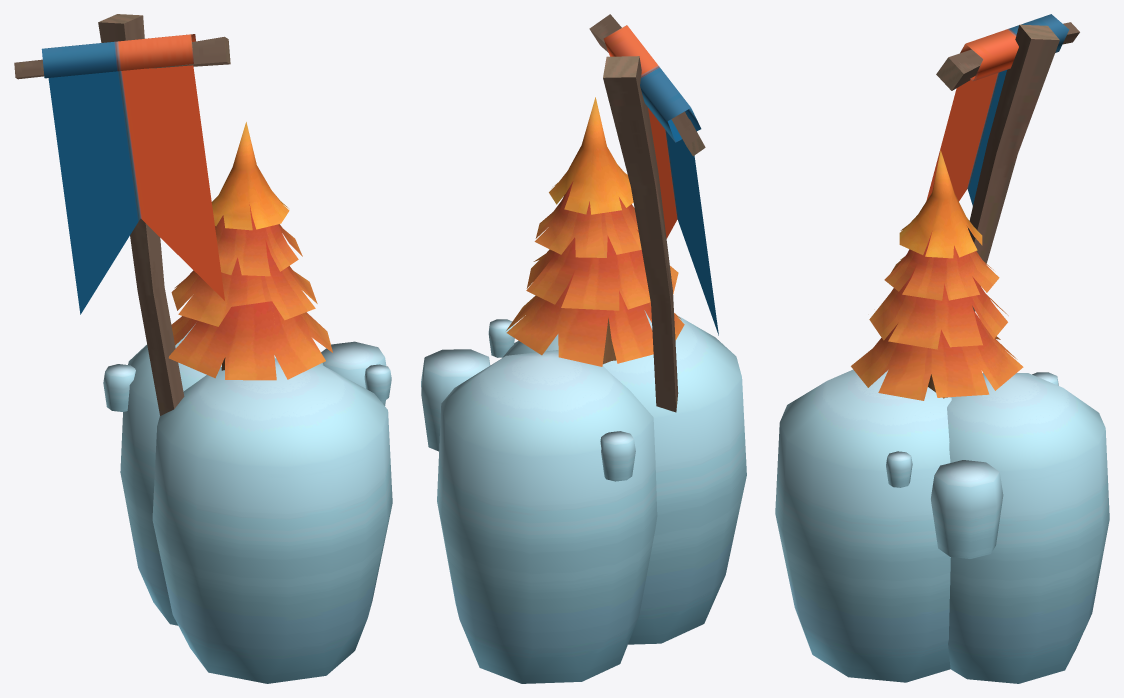
Rendered from Pillar1B-005_02_18_7457.fbx.
3 views of the same model, side by side, from view 1: azimuth 30°, elevation 25°; view 2: azimuth 150°, elevation 25°; view 3: azimuth 270°, elevation 25° (orthographic). The views are drawn at different scales.
Parts seen in each view (by area): view 1: Snowpile (6), Flag4 (1), SnowMan, Snowpile (1), Wood1.002 (1), ClothTop5 (1), Snowpile (5), Wood1.002 (2), Snowpile (2), Snowpile (4); view 2: Snowpile (1), Snowpile (6), SnowMan, Wood1.002 (1), Flag4 (1), ClothTop5 (1), Snowpile (5), Snowpile (2), Wood1.002 (2), Snowpile (4); view 3: Snowpile (6), Snowpile (1), SnowMan, Wood1.002 (1), Snowpile (5), Flag4 (1), ClothTop5 (1), Wood1.002 (2), Snowpile (4).
Boxes of the visible parts, x1,y1,x2,y2 form: Snowpile (6): (152, 358, 392, 683); Flag4 (1): (48, 65, 224, 314); SnowMan: (168, 122, 332, 380); Snowpile (1): (120, 324, 323, 625); Wood1.002 (1): (98, 14, 184, 415); ClothTop5 (1): (41, 34, 195, 78); Snowpile (5): (321, 341, 386, 405); Wood1.002 (2): (14, 36, 230, 79); Snowpile (2): (103, 364, 135, 411); Snowpile (4): (364, 364, 391, 401); Snowpile (1): (437, 350, 657, 683); Snowpile (6): (502, 310, 746, 644); SnowMan: (506, 97, 684, 366); Wood1.002 (1): (603, 56, 678, 412); Flag4 (1): (648, 108, 718, 335); ClothTop5 (1): (603, 25, 701, 142); Snowpile (5): (421, 349, 490, 451); Snowpile (2): (600, 431, 635, 481); Wood1.002 (2): (589, 14, 705, 156); Snowpile (4): (488, 319, 514, 357); Snowpile (6): (775, 369, 951, 682); Snowpile (1): (947, 373, 1109, 683); SnowMan: (851, 150, 1023, 400); Wood1.002 (1): (968, 24, 1059, 311); Snowpile (5): (931, 460, 1003, 558); Flag4 (1): (926, 70, 1006, 205); ClothTop5 (1): (960, 14, 1069, 81); Wood1.002 (2): (936, 22, 1079, 90); Snowpile (4): (886, 451, 912, 487).
Bounding box in the file's own units: 2.71 × 4.85 × 2.52.
